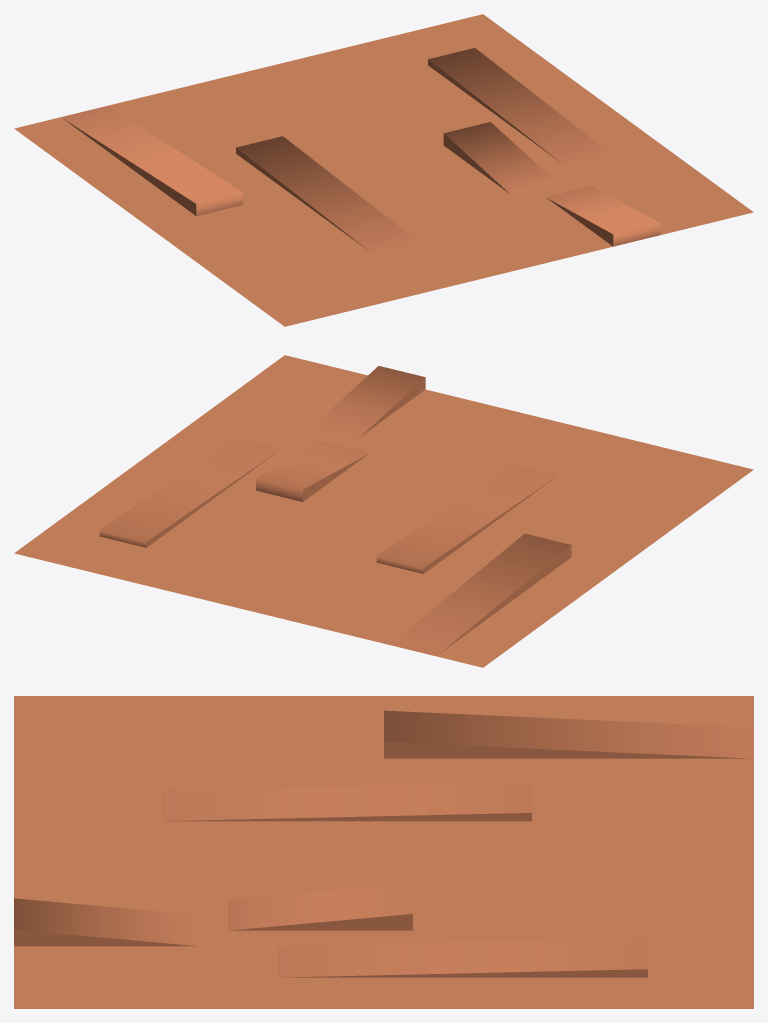
The model's file is floor-wood.glb.
3 views of the same model, one above another, from view 1: azimuth 30°, elevation 25°; view 2: azimuth 150°, elevation 25°; view 3: azimuth 270°, elevation 25° (orthographic). The views are drawn at different scales.
Visible parts, largest first — view 1: floor_wood; view 2: floor_wood; view 3: floor_wood.
Boxes of the visible parts, left/top/right/bottom form: floor_wood: left=14, top=14, right=753, bottom=326; floor_wood: left=14, top=355, right=753, bottom=667; floor_wood: left=14, top=696, right=753, bottom=1008.
Size of the model in its own units: 1 by 0.025 by 1.
Materials: 1 (1 with a texture image).
